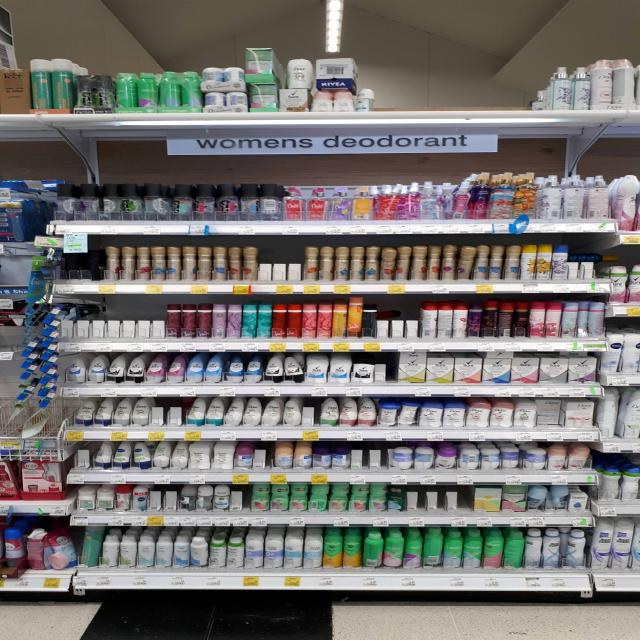unorganised: (424, 300, 452, 342), (562, 525, 587, 572), (377, 182, 405, 222), (361, 526, 384, 573), (81, 525, 102, 570), (258, 182, 282, 220), (506, 528, 526, 572), (100, 181, 123, 219), (143, 180, 165, 219), (425, 525, 444, 570), (536, 400, 563, 431), (601, 389, 618, 438), (380, 242, 398, 284), (567, 442, 590, 474), (282, 354, 305, 385), (459, 243, 476, 281), (119, 245, 136, 283), (101, 534, 119, 569), (195, 246, 212, 283), (548, 487, 570, 515), (436, 445, 459, 471), (398, 399, 418, 428), (95, 441, 113, 473), (191, 535, 207, 570), (320, 245, 333, 284), (274, 444, 293, 470), (197, 486, 215, 512)
